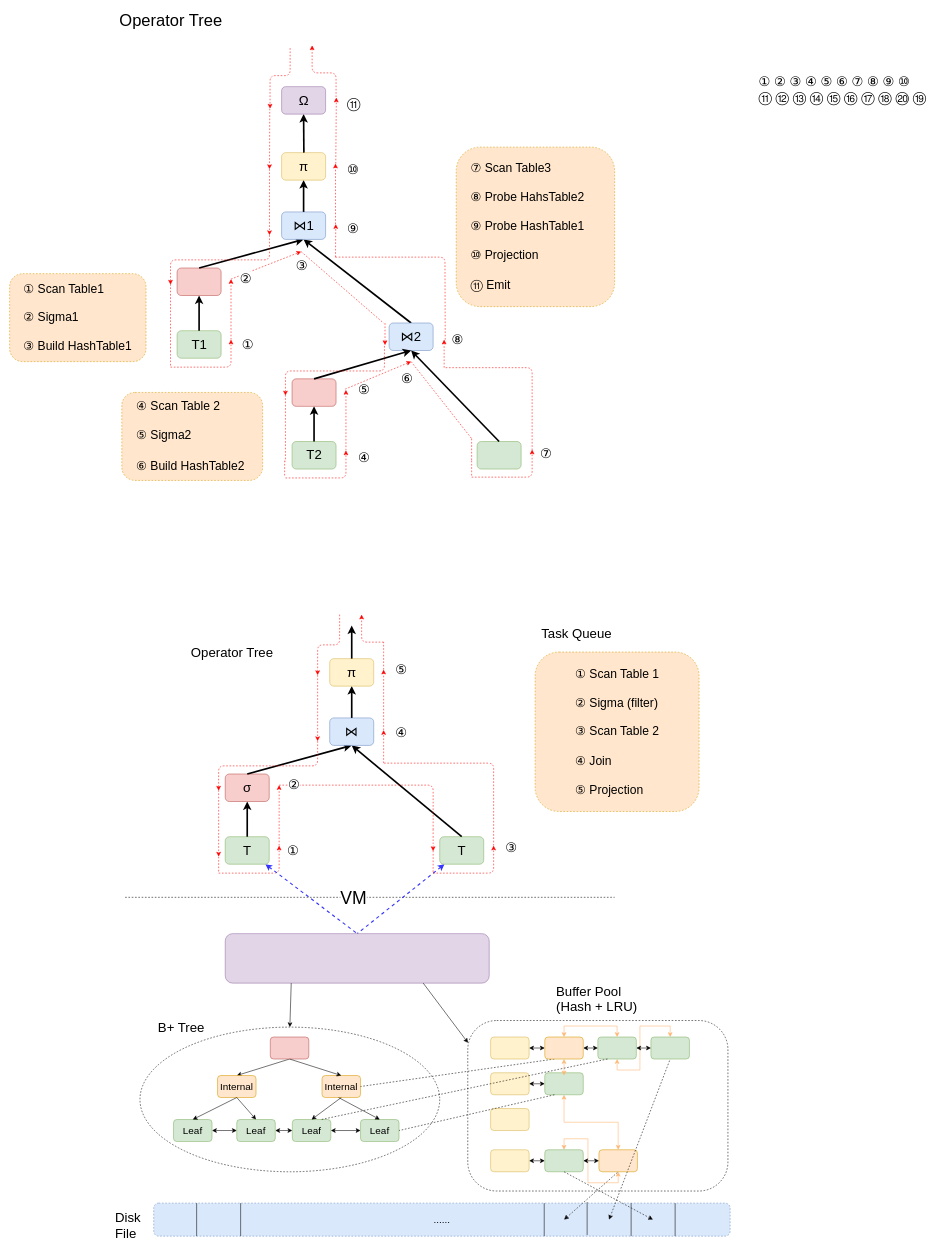
This 949x1251 diagram has some shape labels left out. Here are the shapes that lost their labels. From the top down, the box of each, then its label:
(177, 267, 221, 296): σ1
(292, 378, 336, 406): σ2
(477, 441, 521, 469): T3
(225, 933, 489, 983): Storage Engine
(270, 1036, 309, 1059): Root
